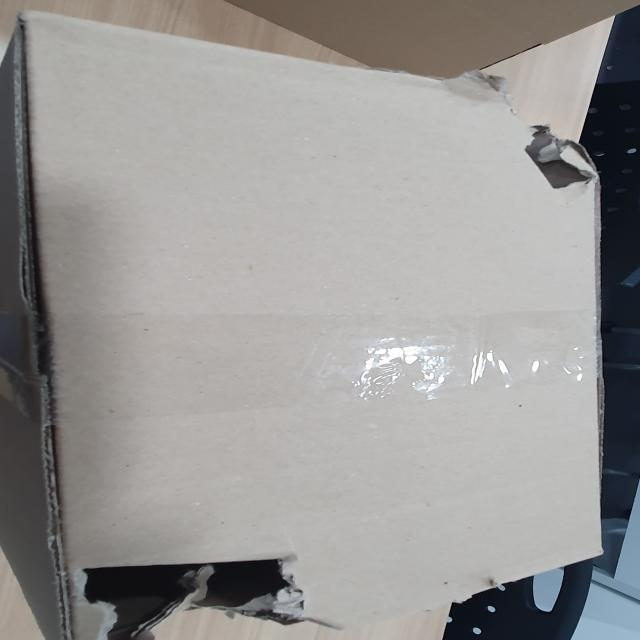hole: (63, 546, 312, 640), (494, 113, 598, 193)
